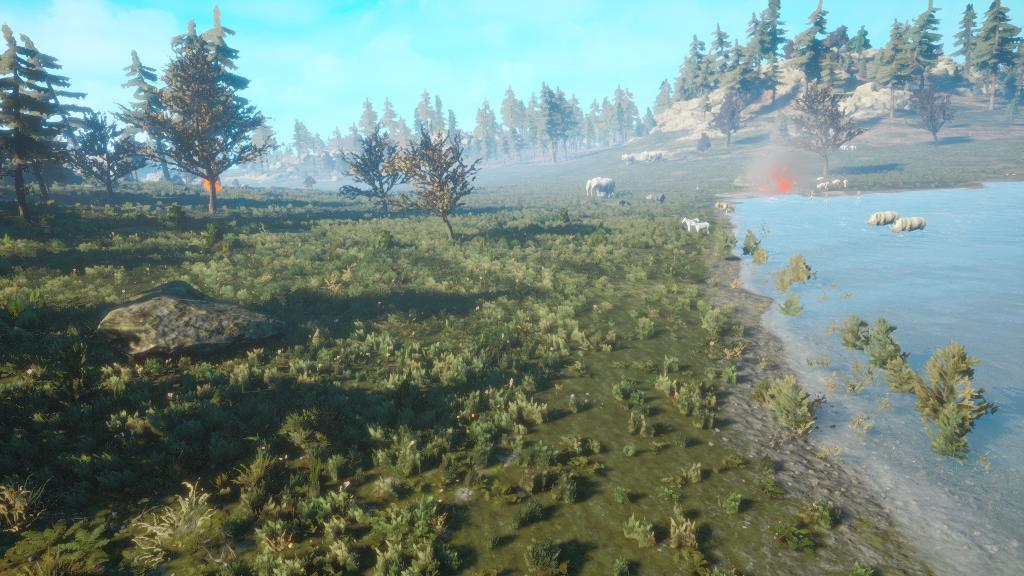Fire: (751, 147, 807, 198), (768, 167, 799, 197)
elephant: (585, 175, 617, 200), (619, 153, 640, 167), (648, 150, 663, 162), (640, 150, 652, 161)
hippopotamus: (644, 192, 667, 205)
human: (853, 189, 865, 205), (821, 193, 832, 209), (807, 190, 816, 203), (824, 179, 831, 192), (841, 178, 850, 188)
lion: (722, 203, 739, 213), (715, 201, 730, 211)
pig: (816, 182, 825, 190), (831, 179, 841, 186), (816, 176, 825, 182)
rhinoceros: (889, 215, 928, 238), (863, 209, 901, 230)
zebra: (689, 220, 712, 234), (682, 215, 702, 231)
